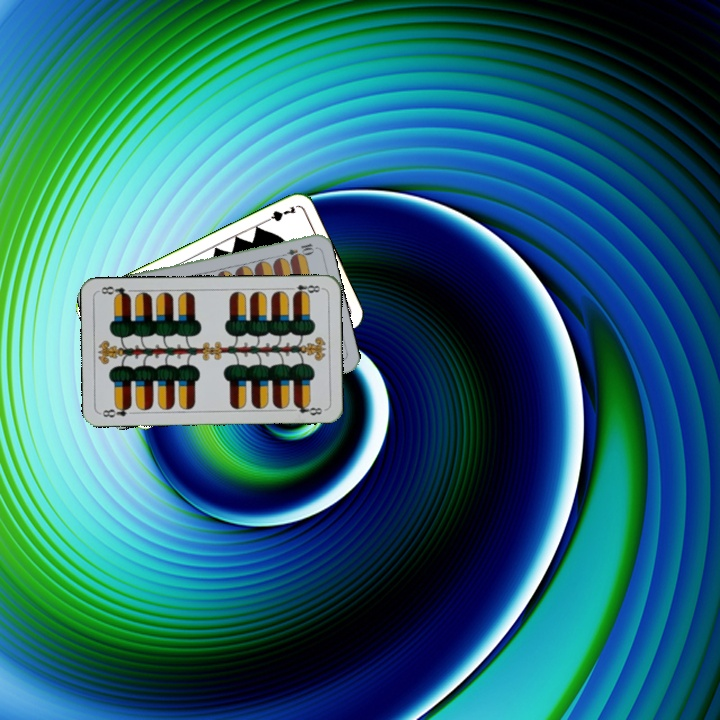E10: (276, 239, 316, 261)
E8: (284, 281, 325, 298), (97, 402, 134, 420)
G7: (259, 202, 299, 226)
